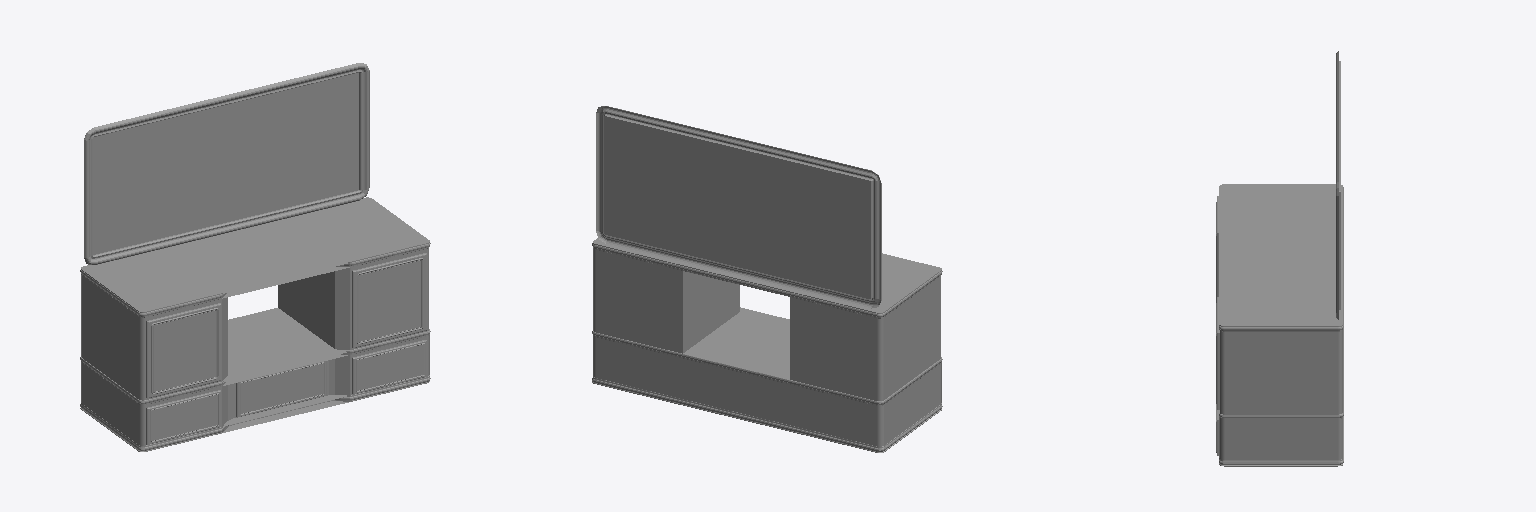
File: furniture.obj
The picture shows the model from 3 angles: view 1: azimuth 30°, elevation 25°; view 2: azimuth 150°, elevation 25°; view 3: azimuth 270°, elevation 25°; orthographic projection.
Visible parts, largest first — view 1: Circle.010_Circle.005, Circle.006_Circle.001, Circle.008, Circle.007; view 2: Circle.010_Circle.005, Circle.006_Circle.001, Circle.008; view 3: Circle.010_Circle.005, Circle.008.
Boxes of the visible parts, x1,y1,x2,y2 form: Circle.010_Circle.005: [80, 63, 430, 451]; Circle.006_Circle.001: [93, 73, 358, 254]; Circle.008: [81, 197, 429, 312]; Circle.007: [150, 258, 424, 441]; Circle.010_Circle.005: [592, 106, 942, 452]; Circle.006_Circle.001: [604, 116, 870, 298]; Circle.008: [593, 238, 941, 313]; Circle.010_Circle.005: [1217, 51, 1343, 466]; Circle.008: [1219, 184, 1342, 326].
Bounding box in the file's own units: 3.54 × 3.23 × 1.34.